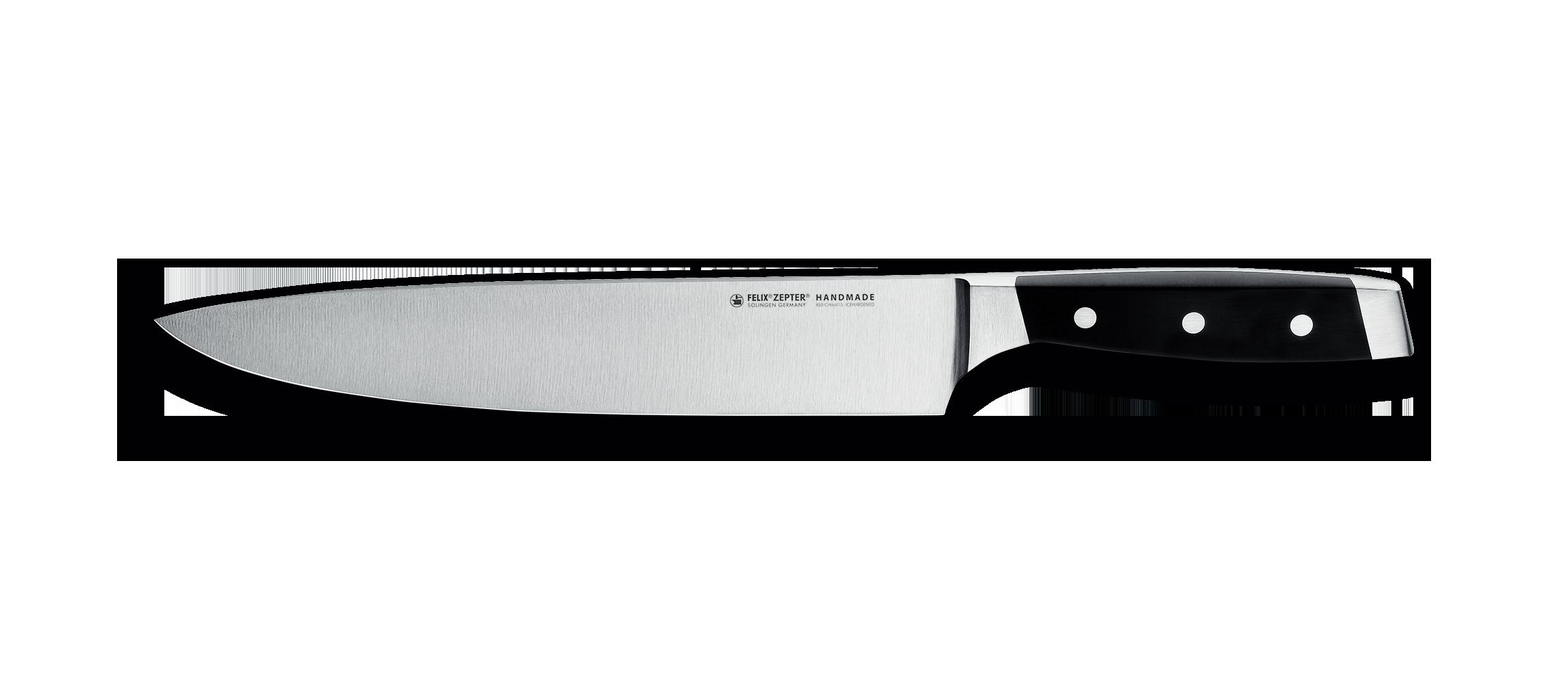Knife: (155, 272, 1414, 424)
